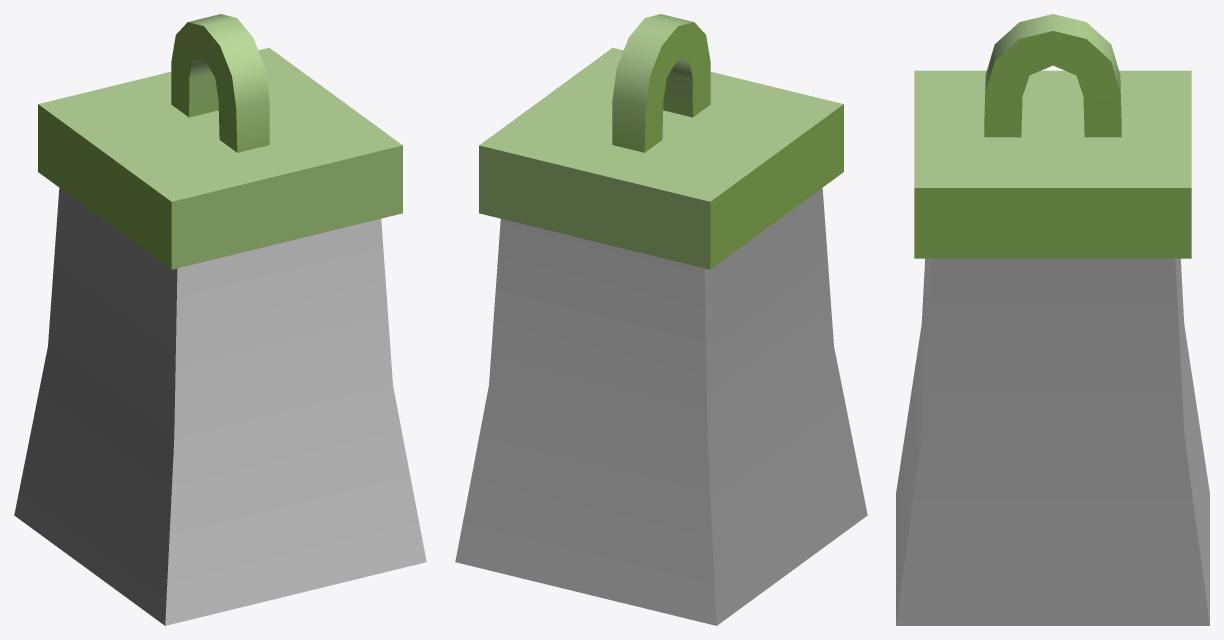
File: GoldenCheeseGrater.glb
3 renders of one model, left to right at view 1: azimuth 30°, elevation 25°; view 2: azimuth 150°, elevation 25°; view 3: azimuth 270°, elevation 25°, orthographic. The views are drawn at different scales.
Parts seen in each view (by area): view 1: GoldenCheeseGrater; view 2: GoldenCheeseGrater; view 3: GoldenCheeseGrater.
Part boxes in pixels (x1,y1,x2,y2): GoldenCheeseGrater: (14,14,426,625); GoldenCheeseGrater: (455,14,867,625); GoldenCheeseGrater: (896,14,1209,625).
Bounding box in the file's own units: 0.211 × 0.3983 × 0.211.
